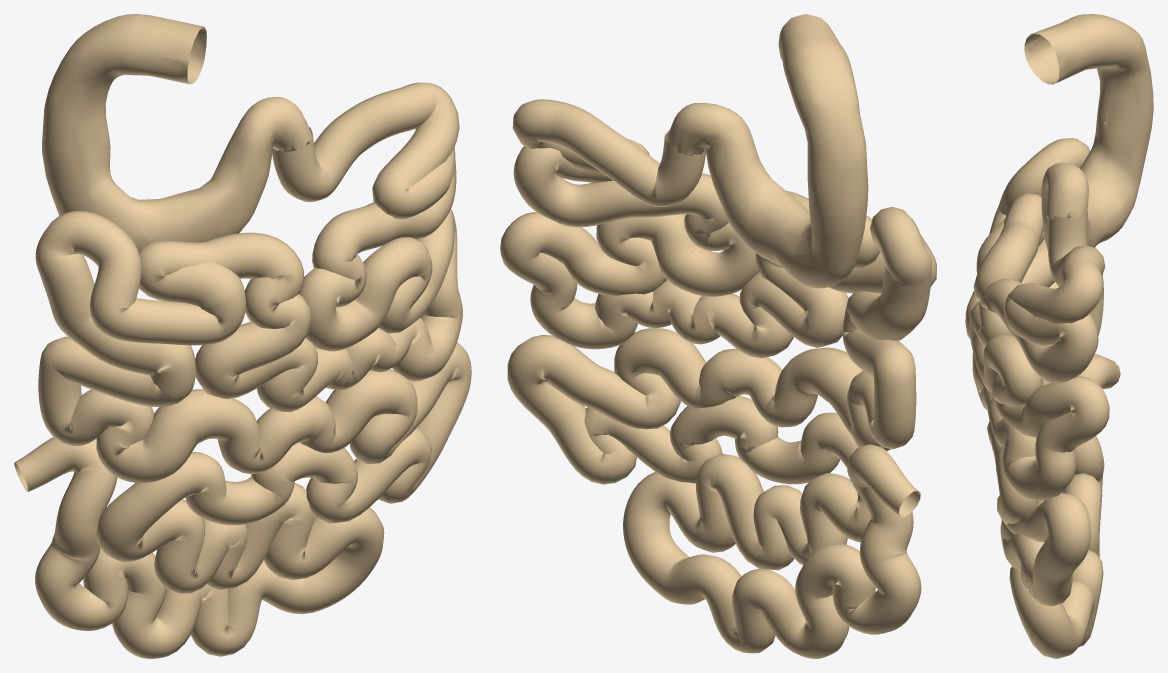
The model's file is intestino-tenue-test.glb.
3 views of the same model, side by side, from view 1: azimuth 30°, elevation 25°; view 2: azimuth 150°, elevation 25°; view 3: azimuth 270°, elevation 25° (orthographic). The views are drawn at different scales.
Visible parts, largest first — view 1: Jejunum, Duodenum; view 2: Jejunum, Duodenum; view 3: Jejunum, Duodenum.
Boxes of the visible parts, box(x1,y1,x2,y2) form: Jejunum: box(14, 82, 471, 658); Duodenum: box(42, 14, 311, 251); Jejunum: box(500, 99, 936, 658); Duodenum: box(667, 14, 868, 288); Jejunum: box(965, 138, 1120, 658); Duodenum: box(1024, 14, 1153, 250).
Bounding box in the file's own units: 0.183 × 0.2622 × 0.0752.
